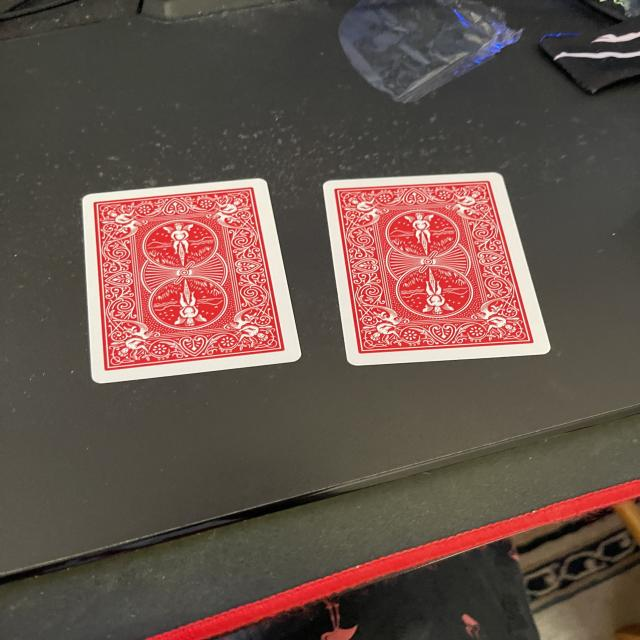card back: (56, 157, 296, 440), (330, 160, 538, 407)
